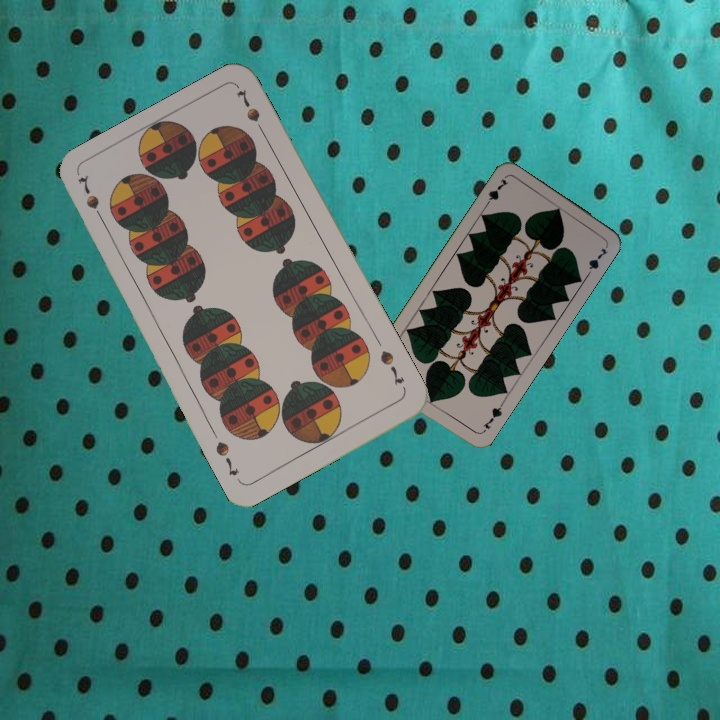G7: (480, 175, 511, 211), (478, 399, 506, 436)
S7: (74, 171, 108, 228), (376, 346, 407, 388)
